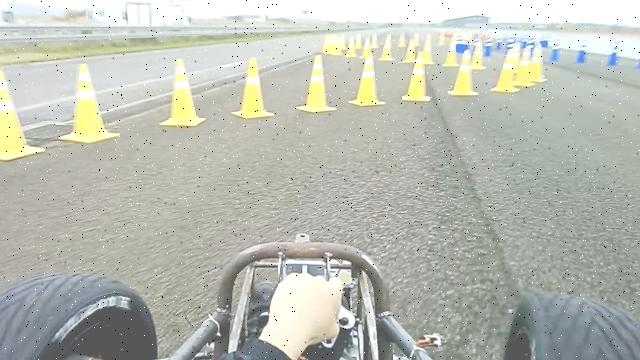yellow cone: (58, 62, 120, 144), (0, 67, 46, 160), (160, 57, 206, 126), (231, 56, 275, 119), (296, 54, 337, 113), (348, 58, 386, 106), (402, 52, 431, 102), (488, 49, 518, 92), (454, 52, 476, 96)
